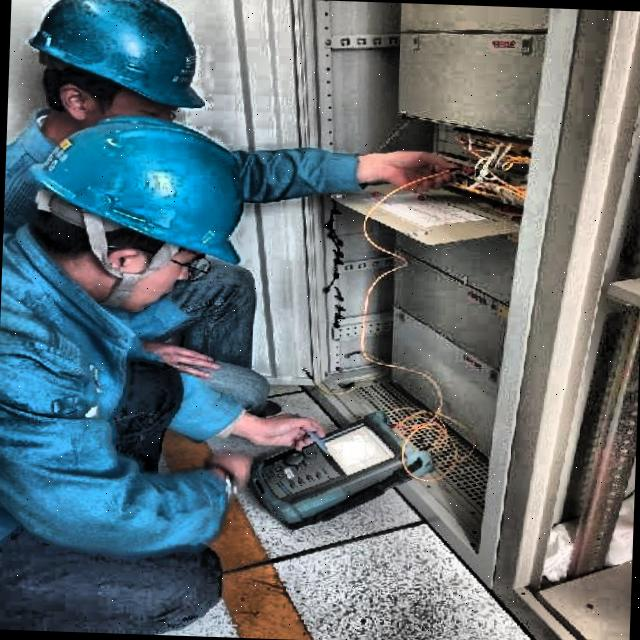helmet: (13, 92, 260, 322), (21, 0, 223, 174)
